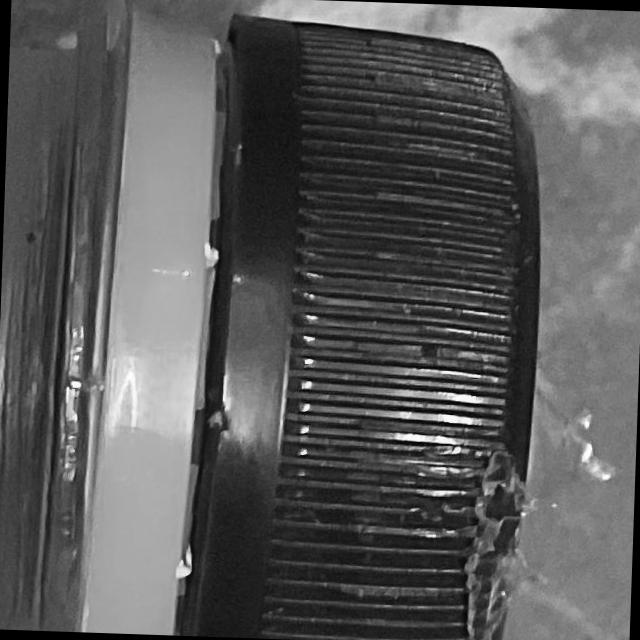Good-cap-Df0S: (23, 0, 562, 640)
